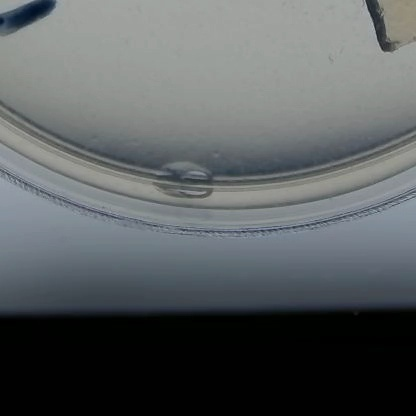worm: (314, 41, 338, 66)
